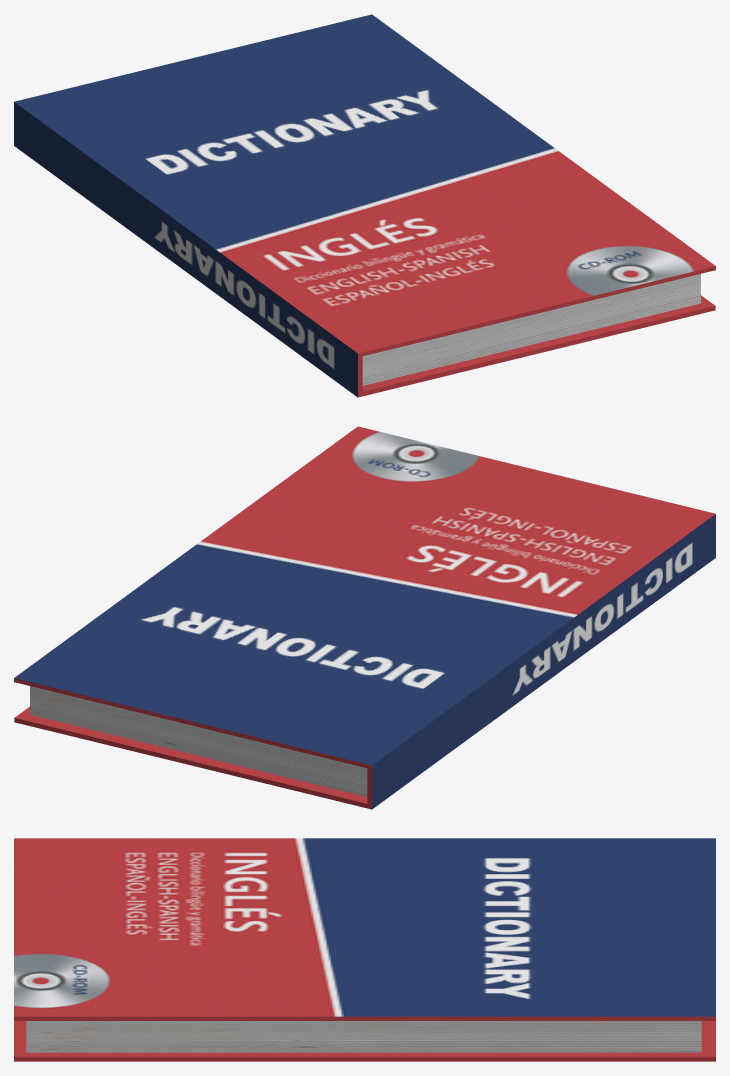
The model's file is Book 4.FBX.
3 renders of one model, top to bottom at view 1: azimuth 30°, elevation 25°; view 2: azimuth 150°, elevation 25°; view 3: azimuth 270°, elevation 25°, orthographic. The views are drawn at different scales.
Parts seen in each view (by area): view 1: Book 4; view 2: Book 4; view 3: Book 4.
Boxes of the visible parts, bbox=[...] form: Book 4: bbox=[14, 14, 715, 397]; Book 4: bbox=[14, 426, 715, 809]; Book 4: bbox=[14, 838, 715, 1061].
Bounding box in the file's own units: 12.82 × 1.51 × 21.33.
Materials: 1 (1 with a texture image).
